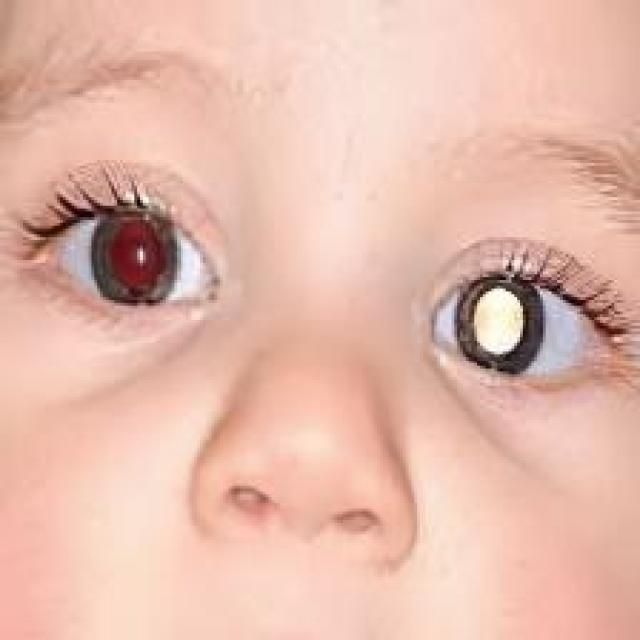reflexo-alterado: (425, 236, 629, 407)
reflexo-normal: (46, 184, 213, 350)
